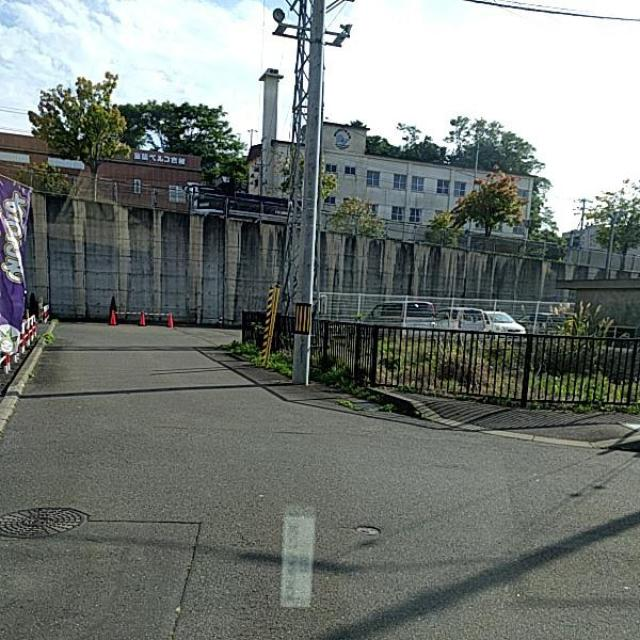Crack: (113, 479, 244, 640)
